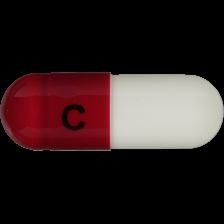43063-595: (0, 0, 224, 224)
